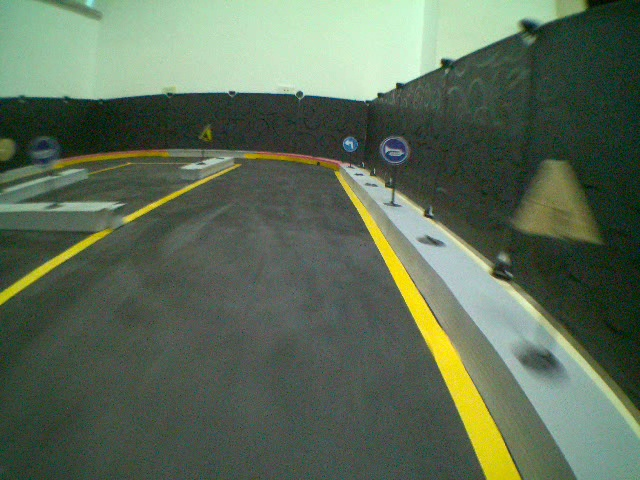fast: (196, 122, 213, 143)
horn: (378, 133, 411, 165)
turn: (342, 134, 360, 153)
